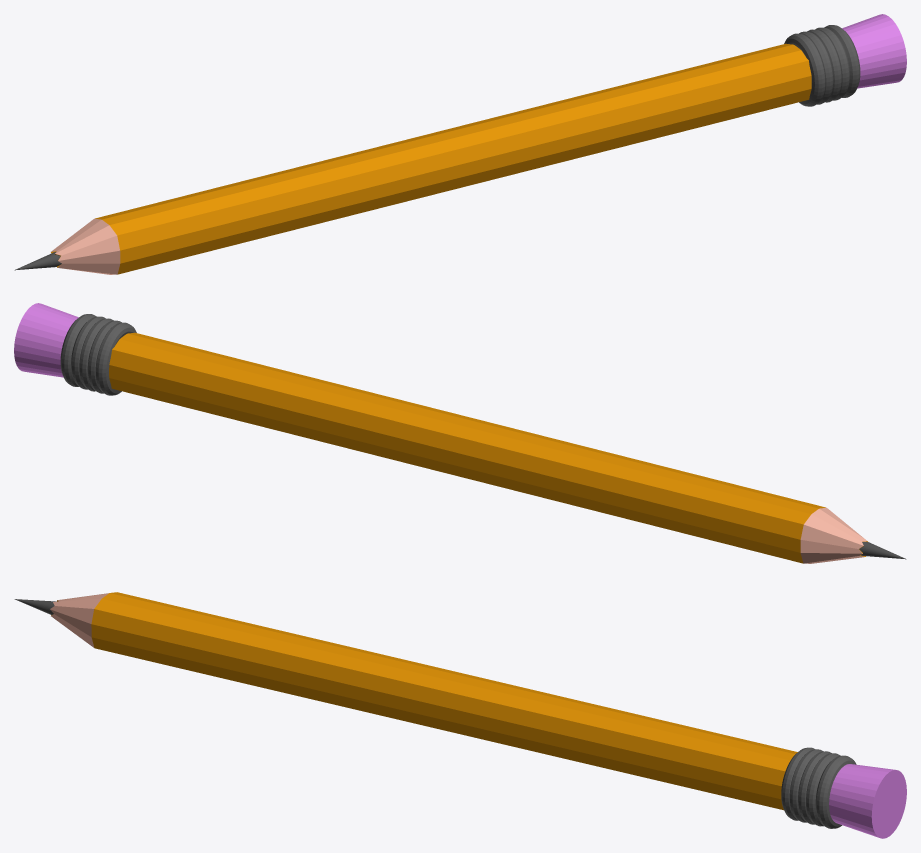
Rendered from uploads_files_3253118_pencil.fbx.
3 renders of one model, top to bottom at view 1: azimuth 30°, elevation 25°; view 2: azimuth 150°, elevation 25°; view 3: azimuth 330°, elevation 25°, orthographic.
Visible parts, largest first — view 1: Cube.003, Cylinder, Torus.007, Torus.006, Torus, Torus.001, Torus.005; view 2: Cube.003, Cylinder, Torus.007, Torus.006, Torus, Torus.001, Torus.005; view 3: Cube.003, Cylinder, Torus.006, Torus.001, Torus.005, Torus.007, Torus.
Boxes of the visible parts, x1,y1,x2,y2 form: Cube.003: (51,43,811,274); Cylinder: (842,14,906,88); Torus.007: (784,33,825,106); Torus.006: (824,25,860,97); Torus: (807,29,841,102); Torus.001: (815,27,849,100); Torus.005: (799,31,833,104); Cube.003: (109,332,867,563); Cylinder: (14,303,78,377); Torus.007: (95,322,136,395); Torus.006: (60,314,96,386); Torus: (79,318,113,391); Torus.001: (71,316,105,389); Torus.005: (87,320,121,393); Cube.003: (50,592,797,810); Cylinder: (829,764,906,838); Torus.006: (815,755,856,828); Torus.001: (806,753,840,826); Torus.005: (789,749,823,822); Torus.007: (781,747,815,820); Torus: (798,751,831,824).
Size of the model in its own units: 192 by 14.26 by 14.19.
